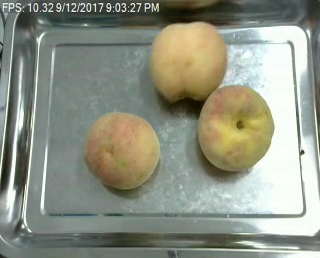Peach: (198, 83, 274, 172), (150, 20, 228, 102), (83, 110, 160, 190)
